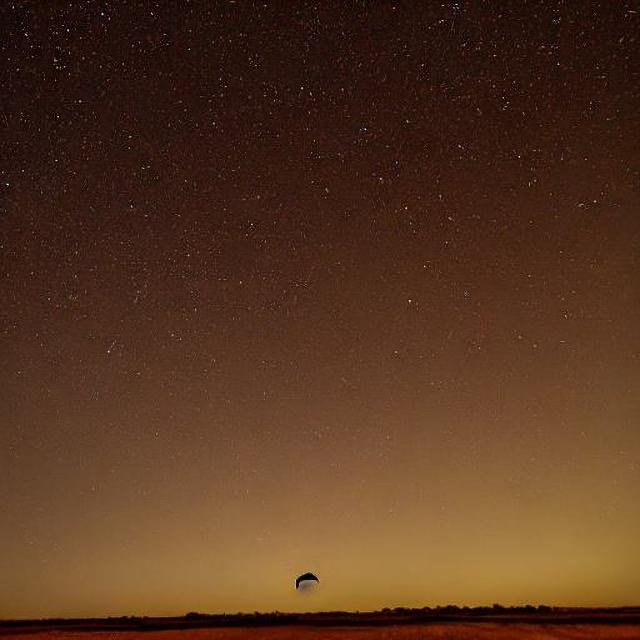floating object: (290, 569, 321, 593)
